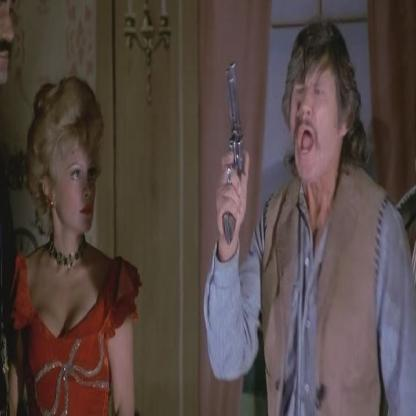gun: (200, 45, 253, 250)
